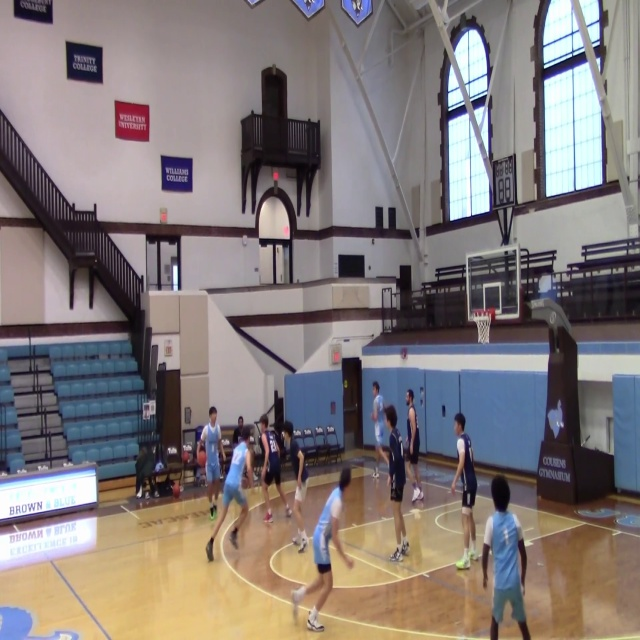Basketball: (197, 450, 207, 467), (172, 484, 181, 497), (181, 451, 190, 462)
